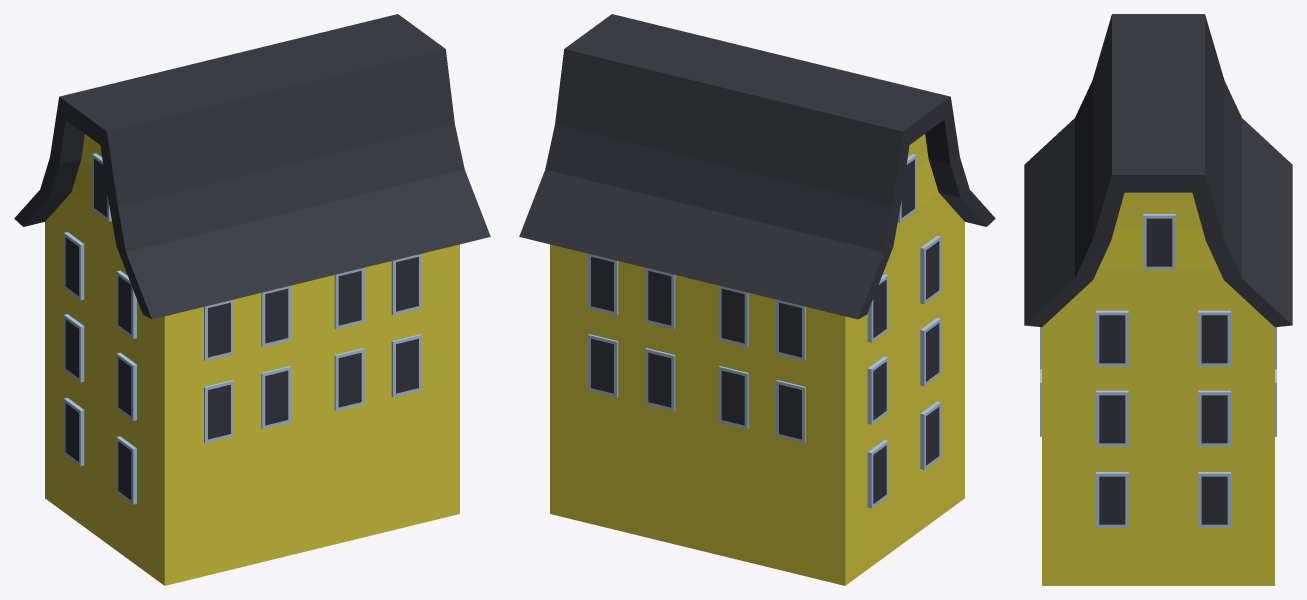
Rendered from Yellow_House.fbx.
The picture shows the model from 3 angles, left to right: view 1: azimuth 30°, elevation 25°; view 2: azimuth 150°, elevation 25°; view 3: azimuth 270°, elevation 25°; orthographic projection. The views are drawn at different scales.
Parts seen in each view (by area): view 1: House_Yellow; view 2: House_Yellow; view 3: House_Yellow.
Boxes of the visible parts, x1,y1,x2,y2 form: House_Yellow: [14, 14, 490, 585]; House_Yellow: [519, 14, 995, 585]; House_Yellow: [1024, 14, 1292, 585].
Bounding box in the file's own units: 974 × 1190 × 686.
